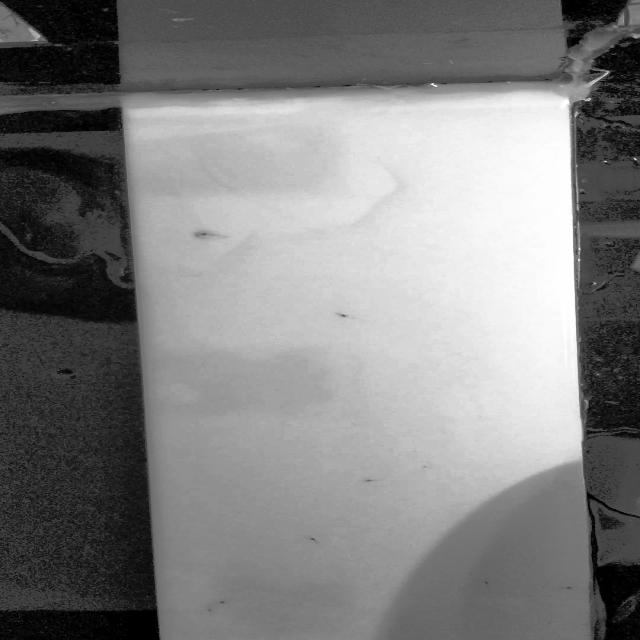shrimp: (299, 530, 342, 552), (180, 228, 236, 244), (466, 572, 502, 594), (324, 308, 366, 324), (348, 474, 391, 484), (211, 595, 238, 607), (558, 583, 576, 594), (200, 607, 222, 614)
